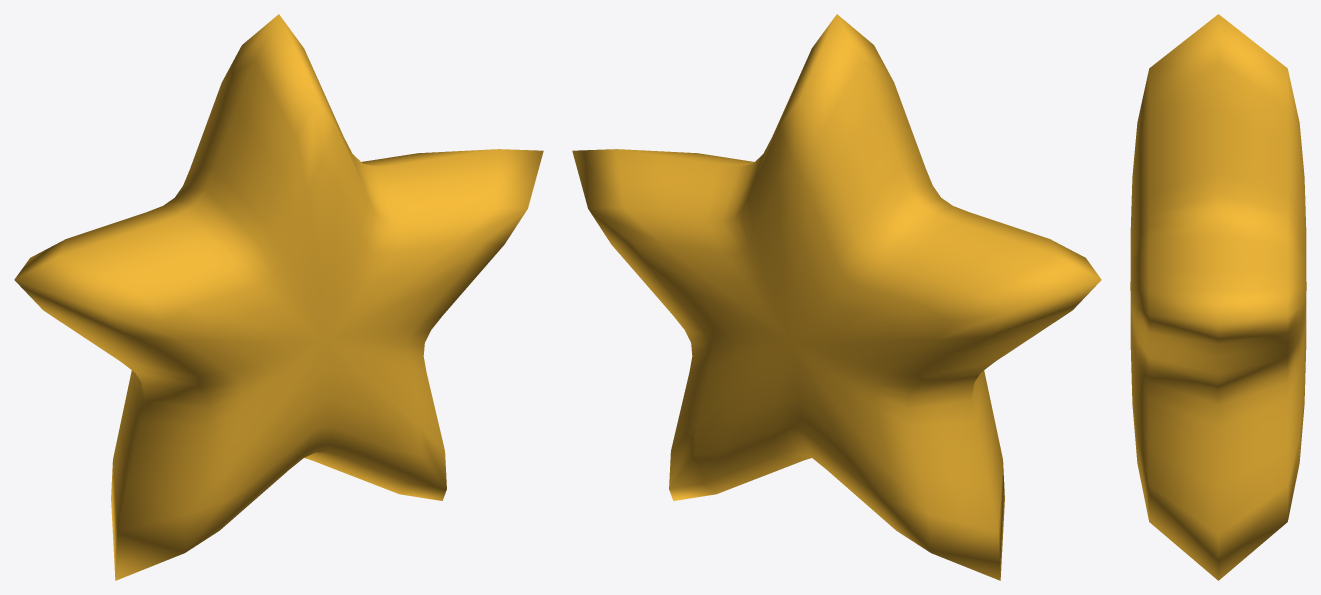
Rendered from star.glb.
3 renders of one model, left to right at view 1: azimuth 30°, elevation 25°; view 2: azimuth 150°, elevation 25°; view 3: azimuth 270°, elevation 25°, orthographic. The views are drawn at different scales.
Parts seen in each view (by area): view 1: star; view 2: star; view 3: star.
Part boxes in pixels (x1=…): star: x1=14, y1=14, x2=543, y2=580; star: x1=572, y1=14, x2=1101, y2=580; star: x1=1130, y1=14, x2=1306, y2=580.
Size of the model in its own units: 0.1947 by 0.1852 by 0.06.
